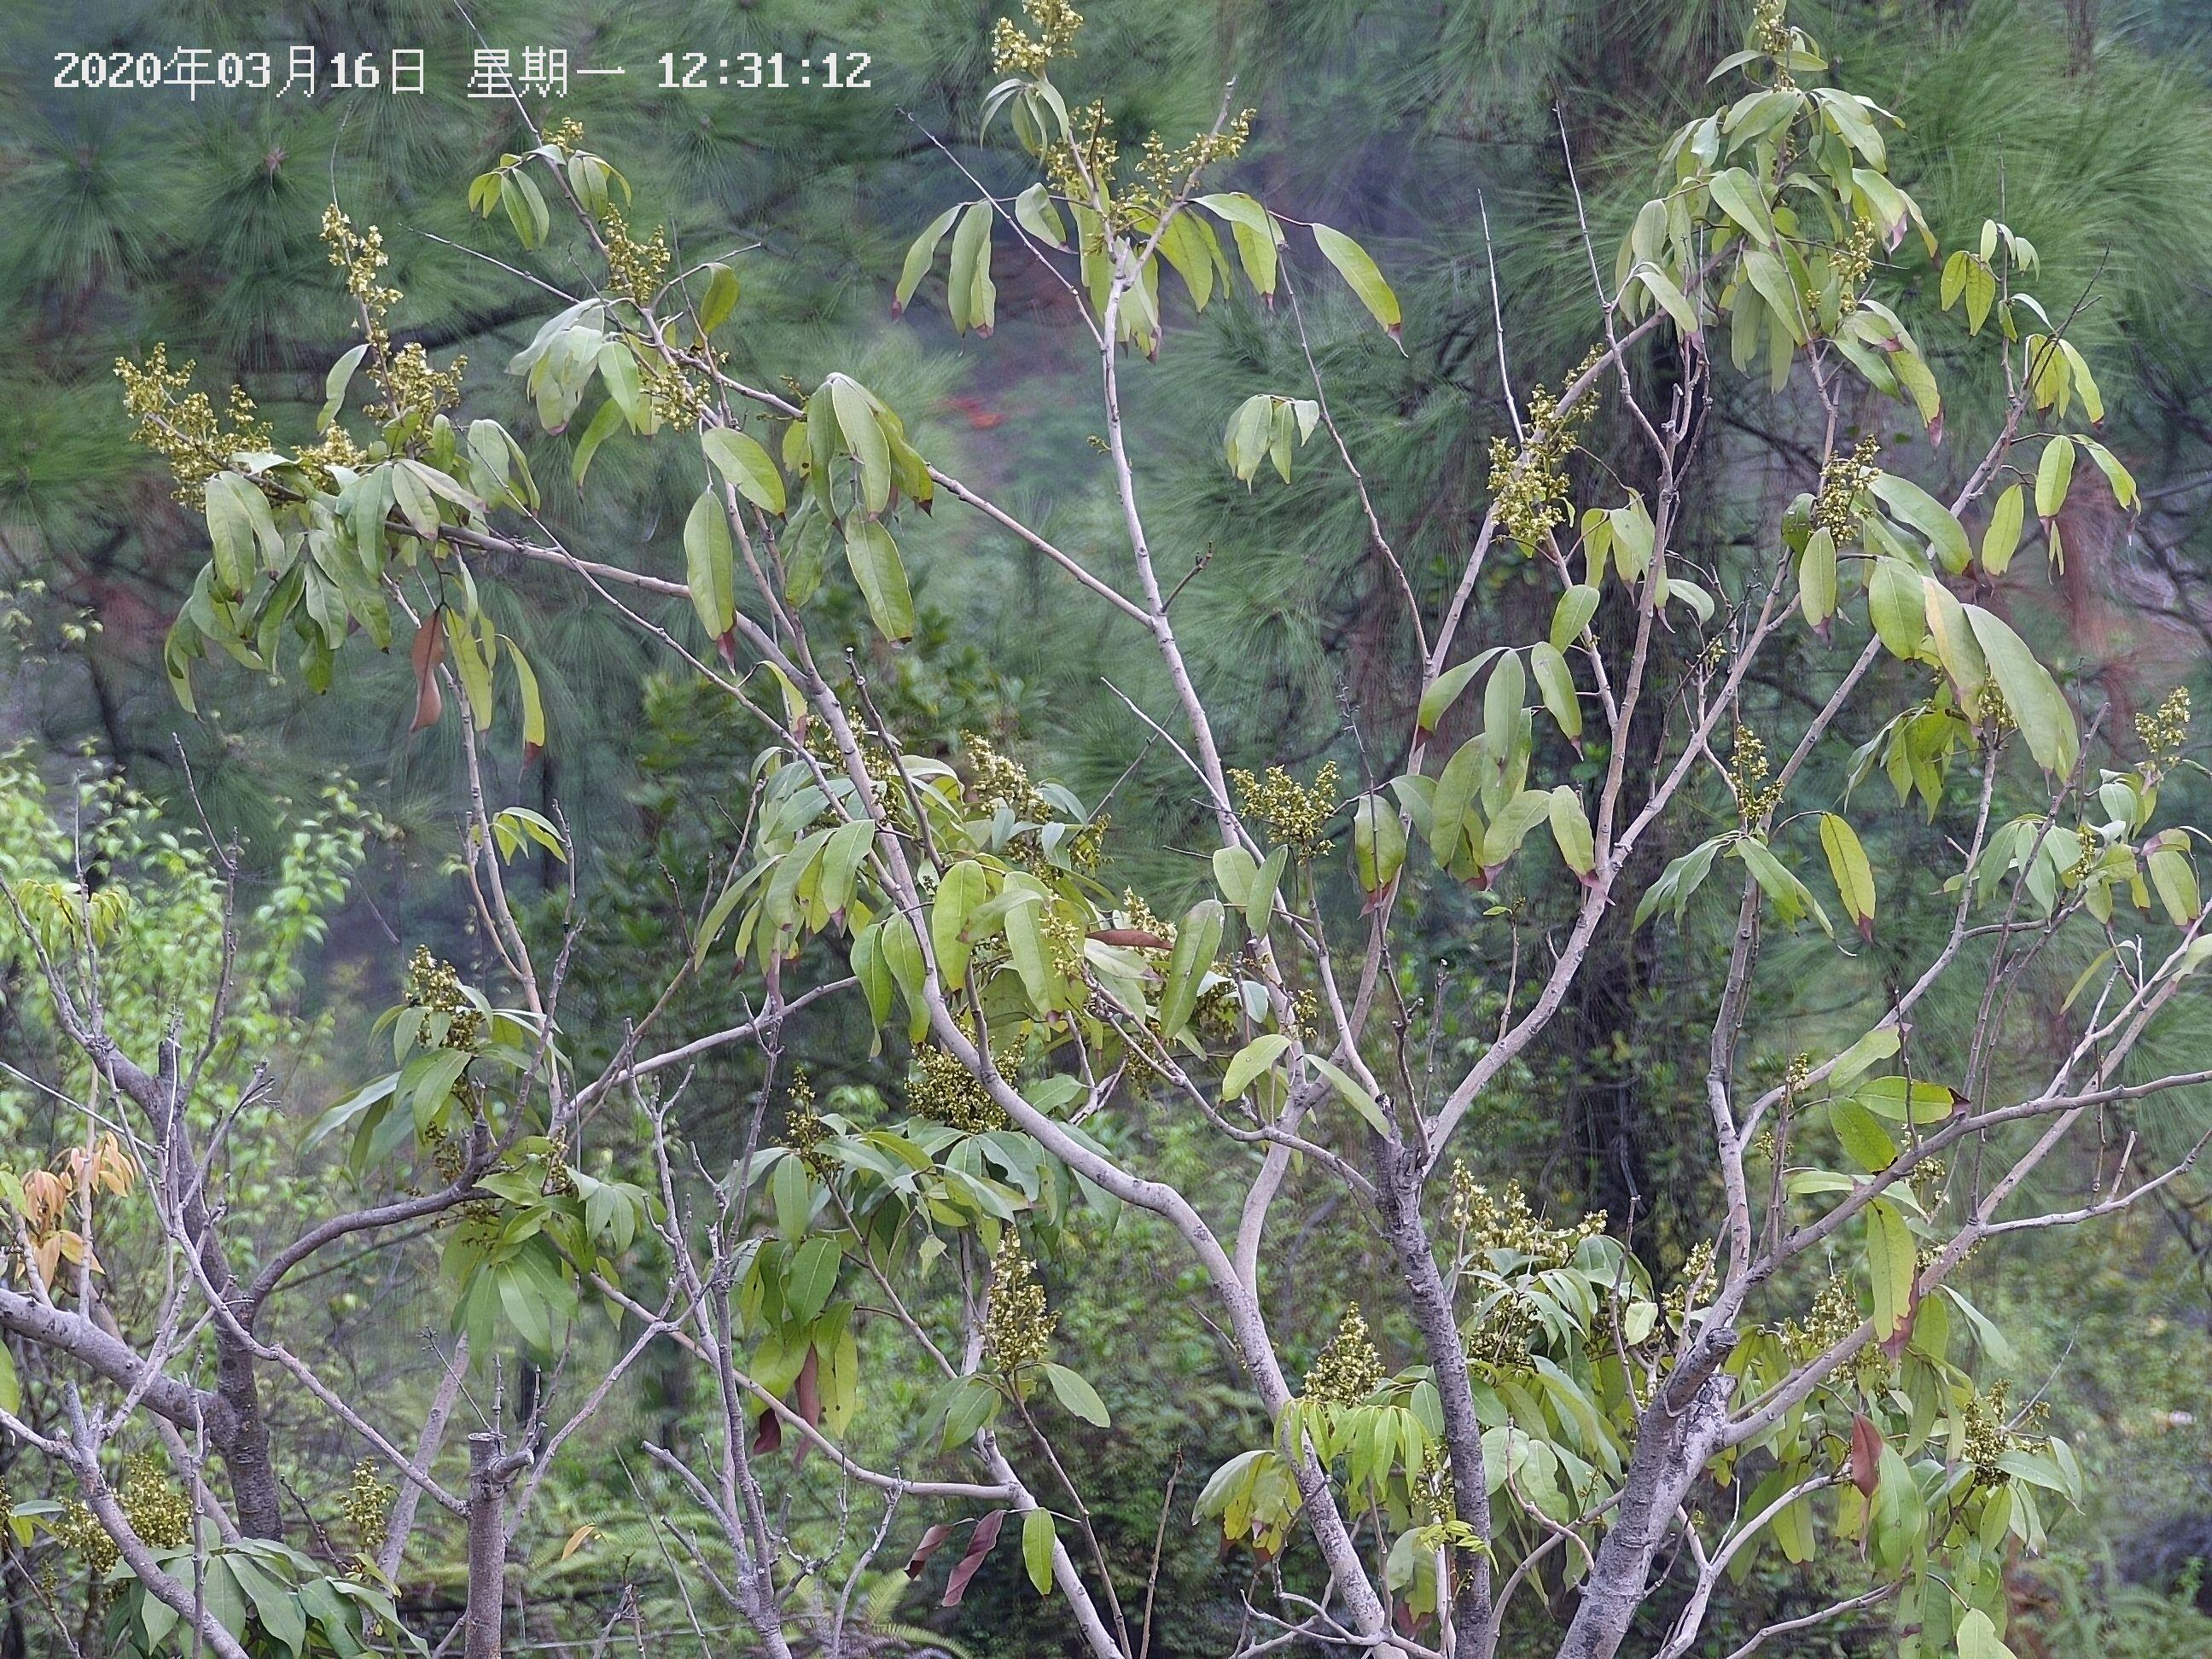开花始期: (110, 338, 273, 467), (2123, 676, 2203, 793), (1787, 1270, 1862, 1351), (1952, 1378, 2024, 1453), (780, 1061, 826, 1157), (399, 943, 462, 1007)
开花盛期: (314, 204, 470, 416), (1486, 335, 1609, 537), (49, 1445, 195, 1577), (1453, 1161, 1609, 1260), (1223, 762, 1343, 861), (1287, 1298, 1402, 1401), (977, 1225, 1061, 1363), (909, 1033, 1024, 1129), (1141, 110, 1261, 192), (1811, 425, 1885, 547), (1038, 98, 1122, 195), (979, 0, 1089, 71), (601, 202, 672, 301), (960, 727, 1045, 803), (1728, 723, 1785, 817), (341, 1453, 390, 1546), (1836, 214, 1879, 281), (307, 423, 366, 467)
